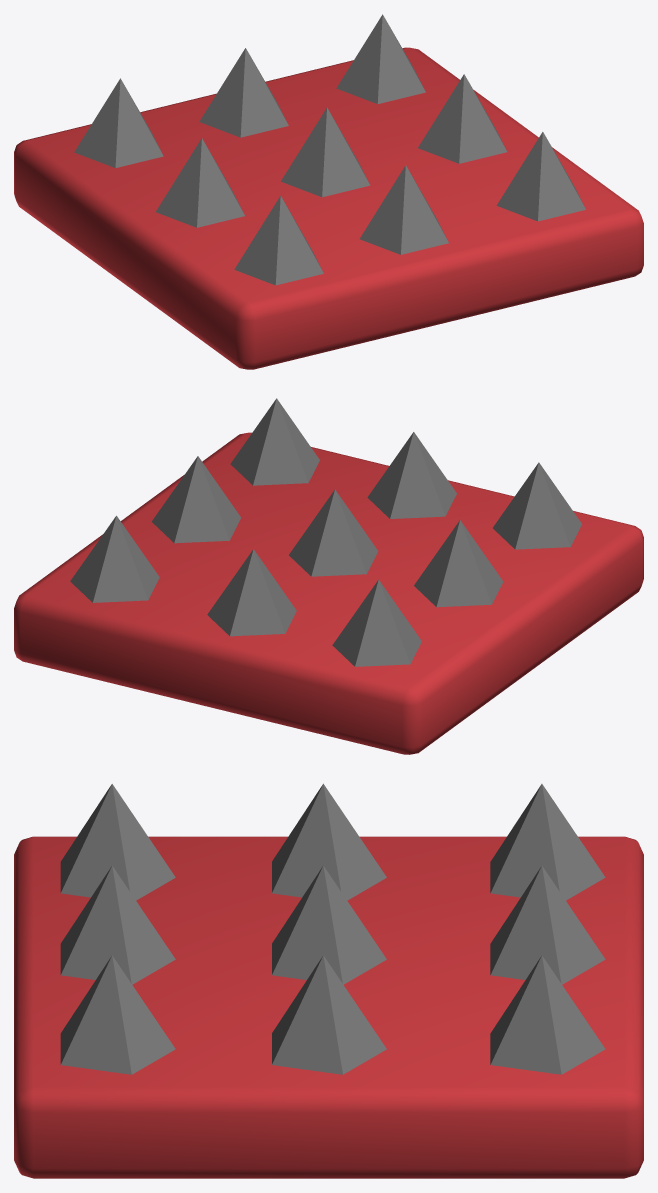
File: PlatformToBreak.fbx
The picture shows the model from 3 angles, top to bottom: view 1: azimuth 30°, elevation 25°; view 2: azimuth 150°, elevation 25°; view 3: azimuth 270°, elevation 25°; orthographic projection. The views are drawn at different scales.
Parts seen in each view (by area): view 1: Spikes_Big_3; view 2: Spikes_Big_3; view 3: Spikes_Big_3.
Part boxes in pixels (box(x1,y1,x2,y2)): Spikes_Big_3: box(14, 14, 643, 369); Spikes_Big_3: box(14, 398, 643, 754); Spikes_Big_3: box(14, 783, 643, 1178).
Size of the model in its own units: 189 by 61.23 by 189.
